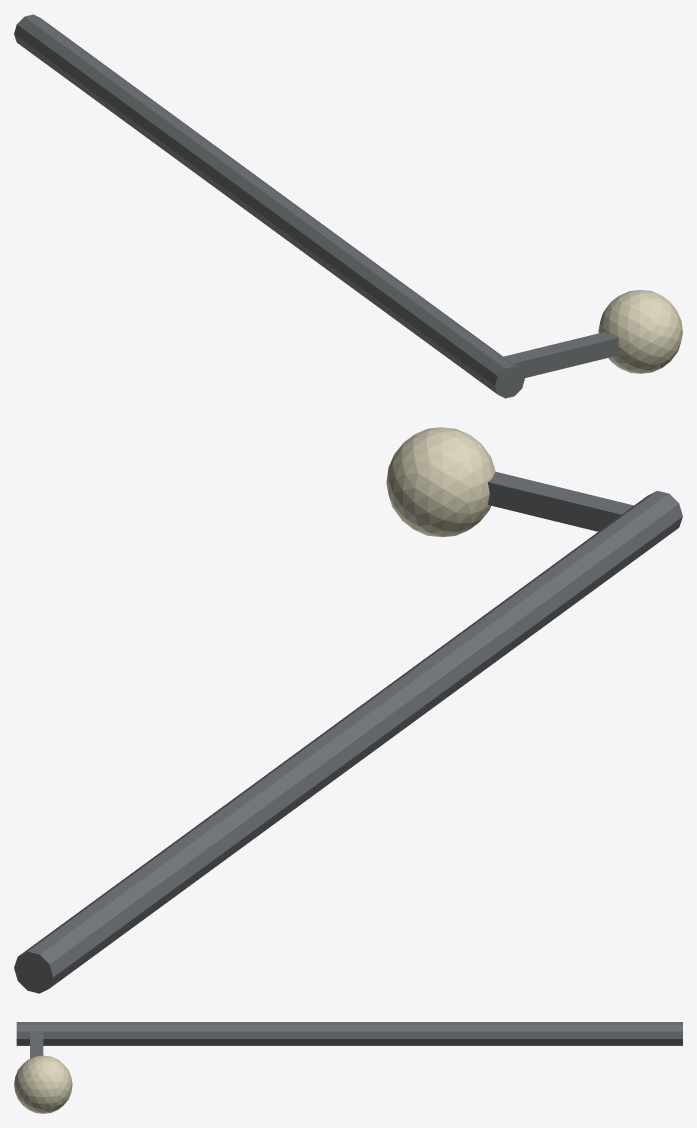
The model's file is street_lamp.glb.
The picture shows the model from 3 angles, top to bottom: view 1: azimuth 30°, elevation 25°; view 2: azimuth 150°, elevation 25°; view 3: azimuth 270°, elevation 25°; orthographic projection. The views are drawn at different scales.
Parts seen in each view (by area): view 1: pole, light, arm; view 2: pole, light, arm; view 3: pole, light, arm.
Boxes of the visible parts, left/top/right/bottom form: pole: left=14, top=14, right=524, bottom=398; light: left=598, top=290, right=682, bottom=373; arm: left=504, top=331, right=618, bottom=377; pole: left=14, top=490, right=682, bottom=993; light: left=386, top=427, right=495, bottom=537; arm: left=488, top=472, right=633, bottom=531; pole: left=16, top=1022, right=682, bottom=1045; light: left=14, top=1055, right=72, bottom=1113; arm: left=30, top=1032, right=43, bottom=1058.
Size of the model in its own units: 1.21 by 0.44 by 5.02.
